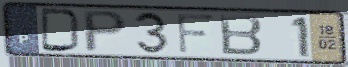1: (288, 15, 312, 59)
3: (133, 10, 172, 56)
B: (217, 13, 264, 57)
D: (39, 7, 84, 54)
F: (175, 12, 217, 56)
P: (83, 9, 130, 53)
